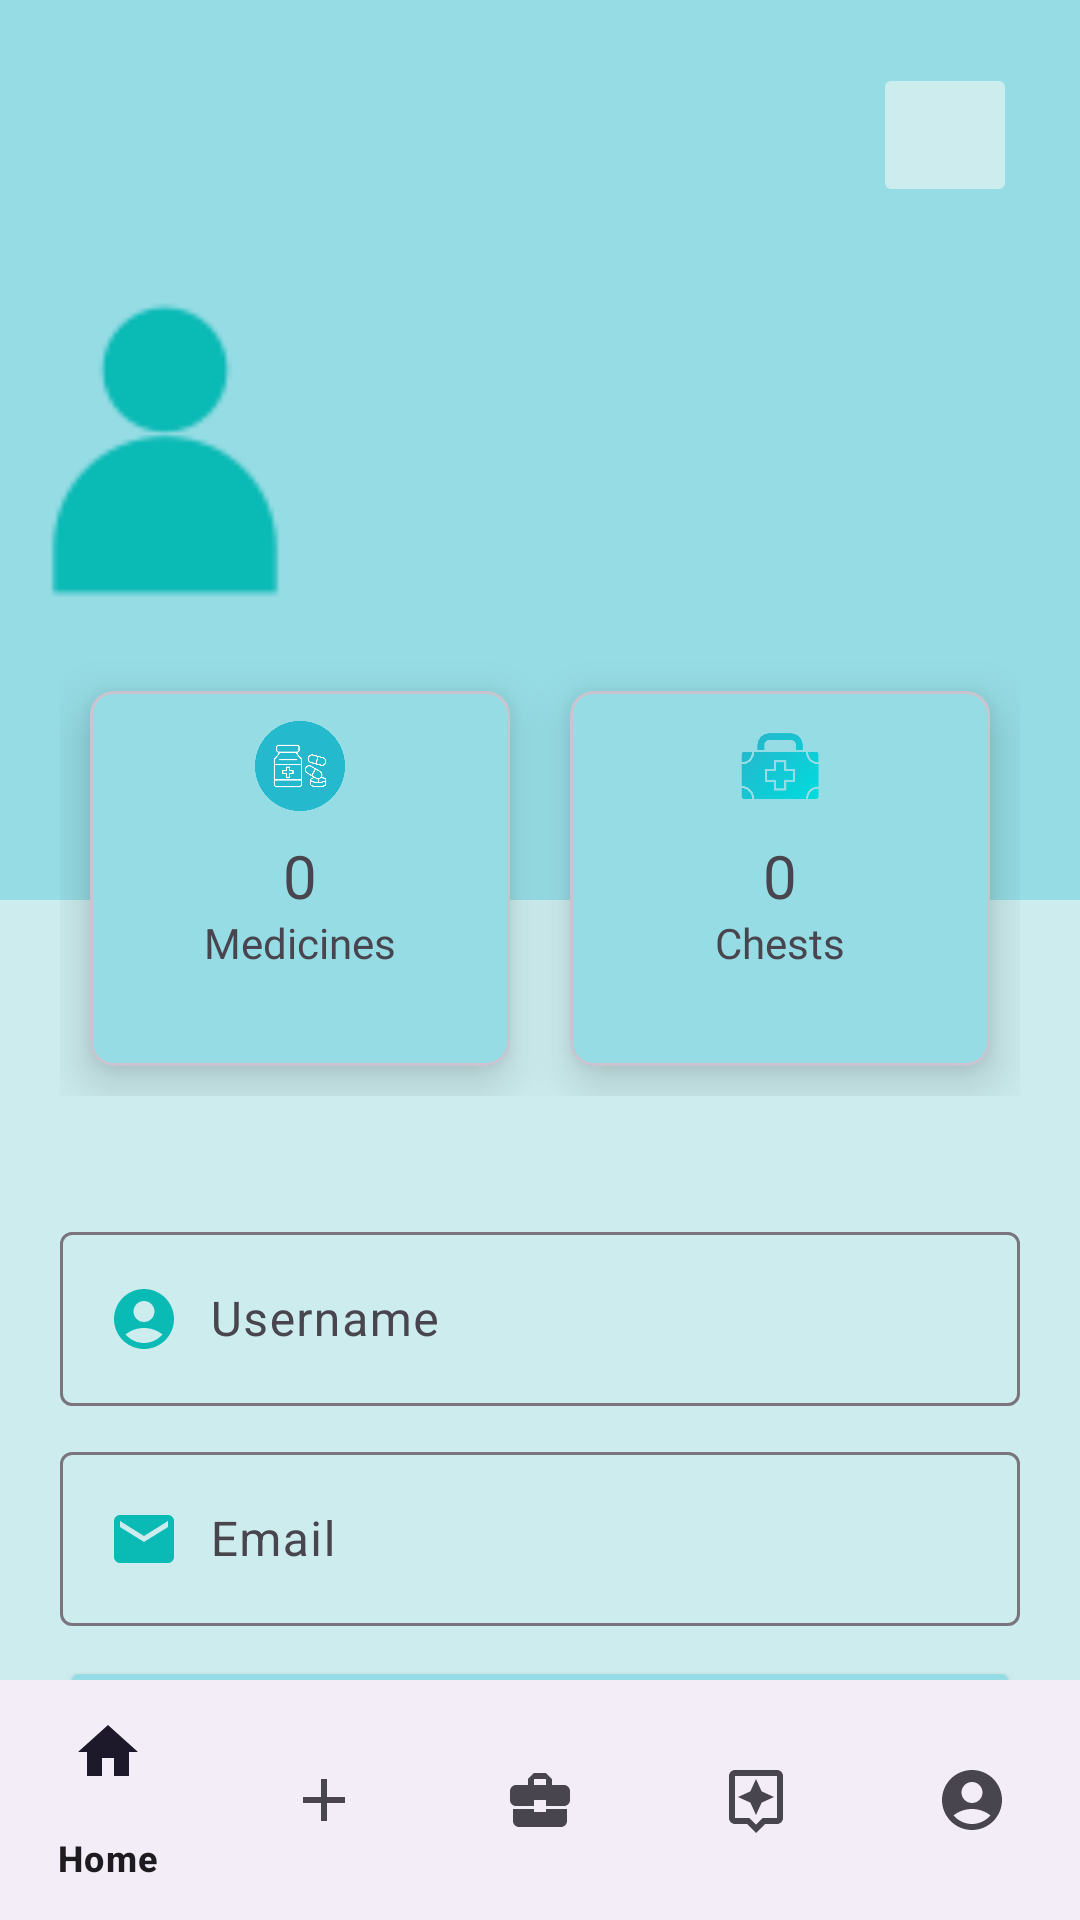

Icon bounding boxes for this 1080 x 1920 phone screenshot, format [x1,y1,x2,y2]:
medicine chest: [741,733,819,799]
tablets: [255,721,345,811]
